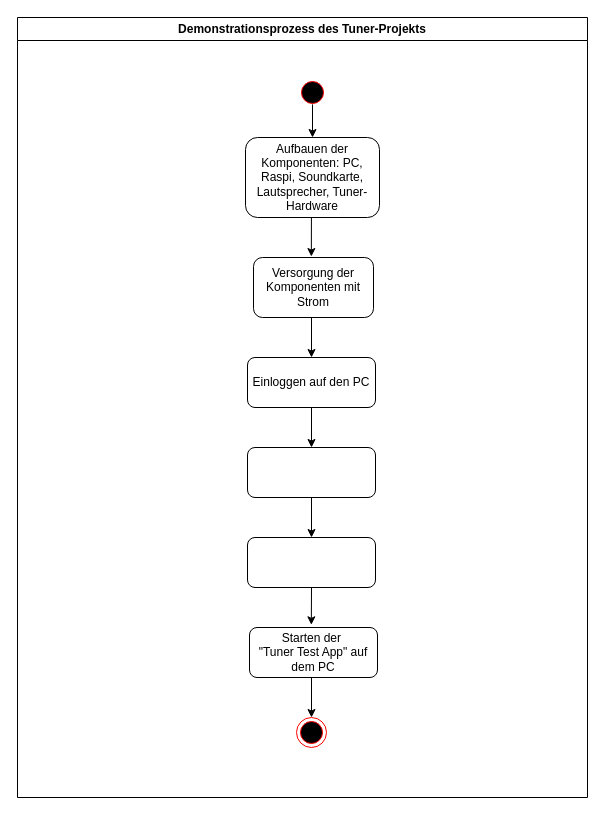
Some shapes in this 605 by 815 pixel diagram are drawn without their labels. Here are the shapes that lost their labels. From the top down, the centre of each, then its label:
At point 311,472: "Einloggen auf den Raspi über ssh".
At point 311,562: "Starten der Tuner-Middleware auf dem Raspi".
